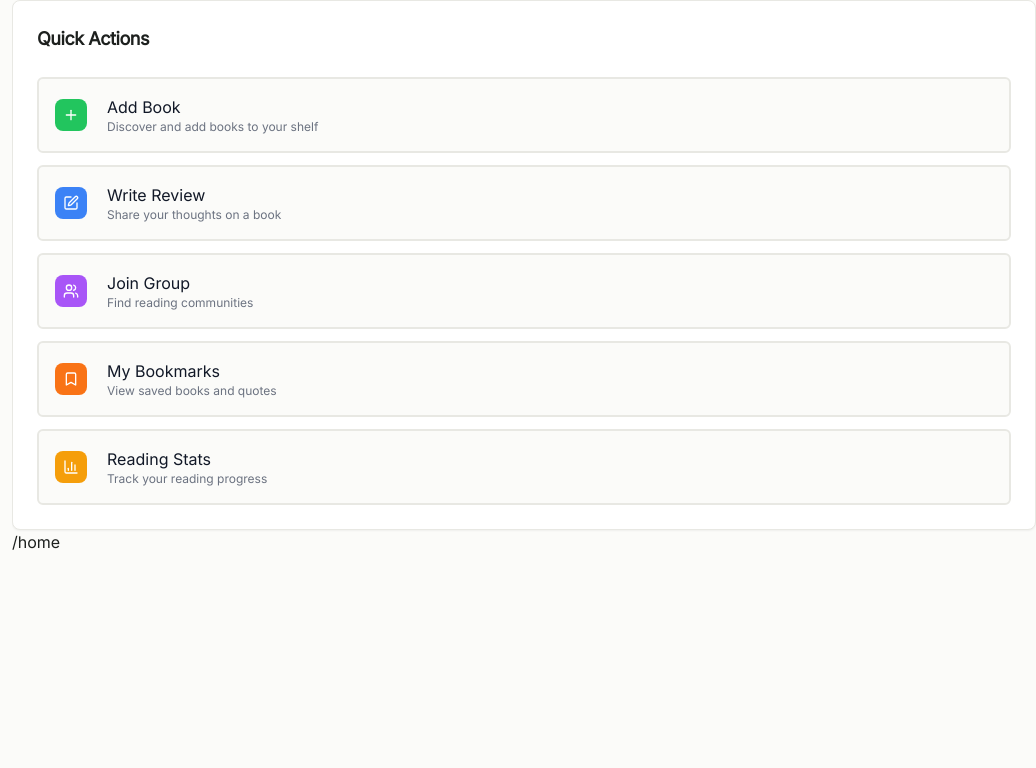
Test: QuickActionsPanel › navigates to the correct destination for Write Review
The image size is (1036, 768).
Click the button "Write Review Share your thoughts on a book".
click(71, 203)  # box [37, 165, 1011, 241]
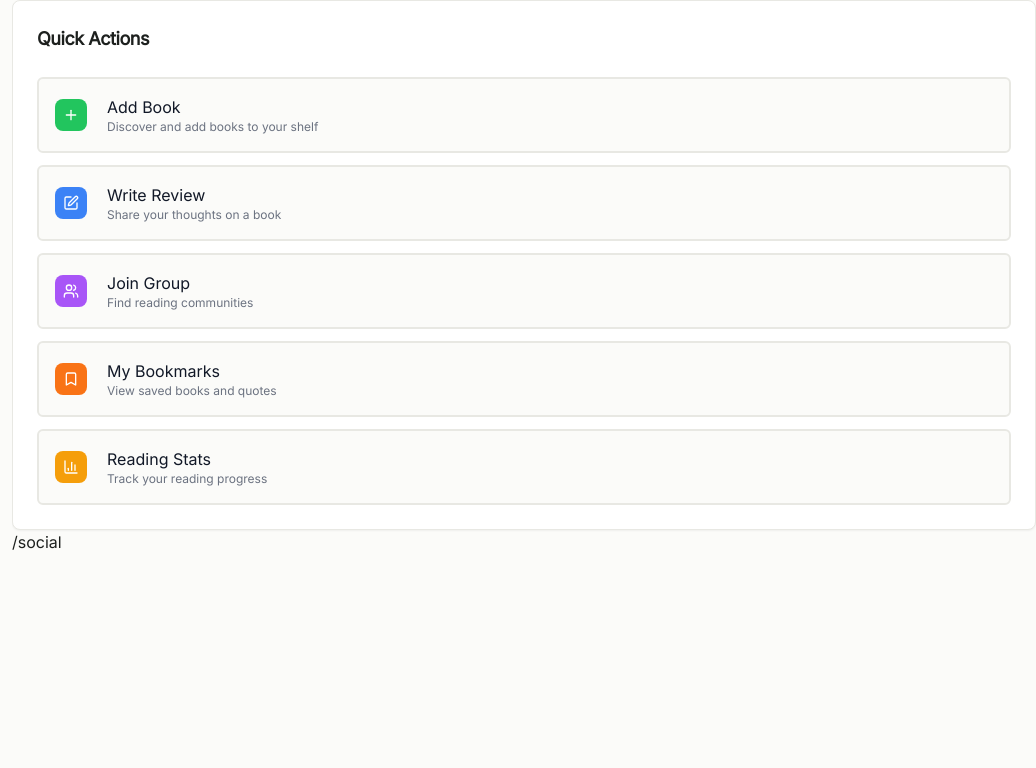
Now the text named "current route" reads "/social", box [12, 532, 62, 552]
